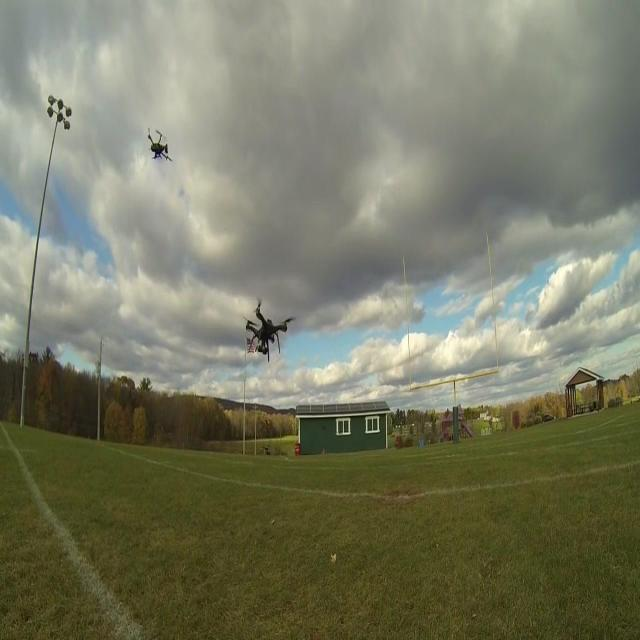UAV: (244, 297, 296, 363), (148, 127, 173, 162)
